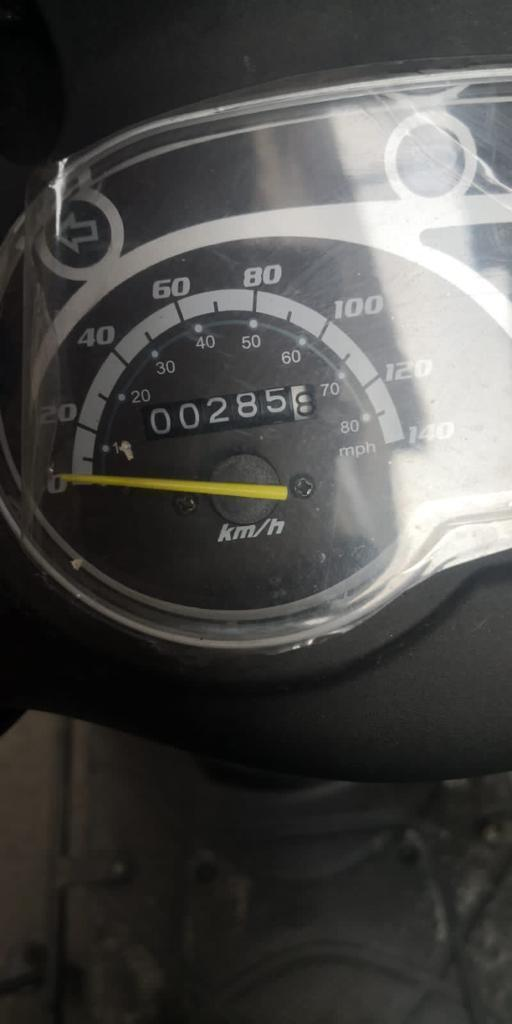0: (176, 401, 200, 431), (148, 405, 172, 435), (140, 388, 151, 402)
2: (205, 395, 231, 424), (129, 389, 140, 403)
5: (263, 386, 288, 413)
8: (234, 390, 258, 418), (294, 390, 316, 417)
odometer: (126, 381, 323, 444)
